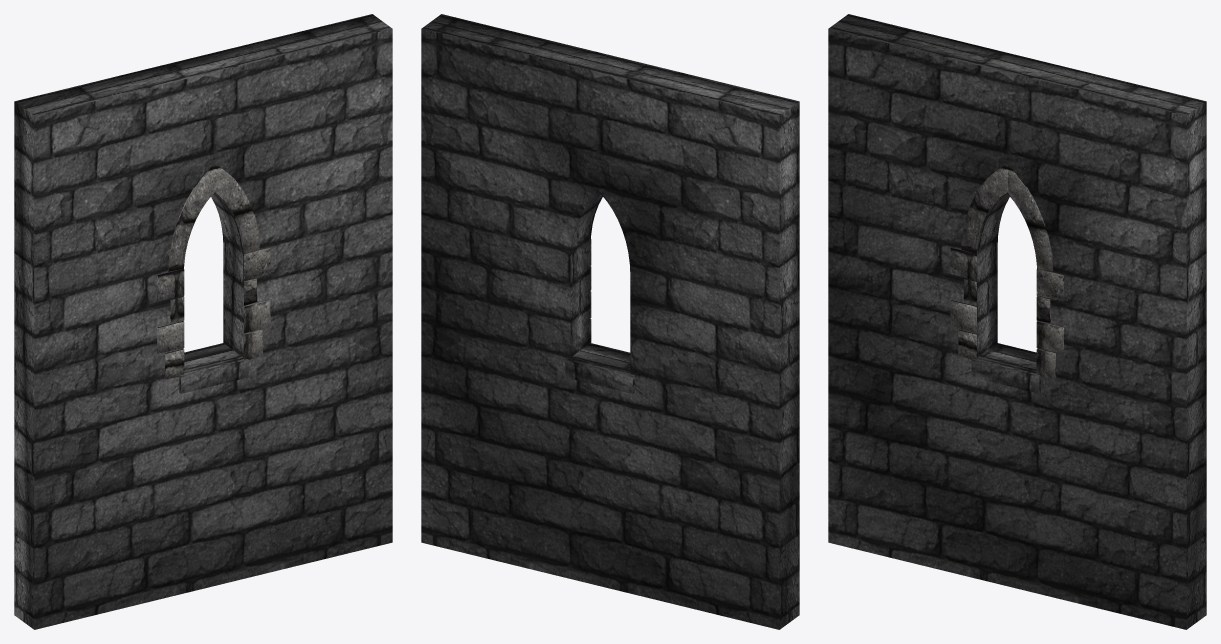
Rendered from stone window .glb.
The picture shows the model from 3 angles, left to right: view 1: azimuth 30°, elevation 25°; view 2: azimuth 150°, elevation 25°; view 3: azimuth 330°, elevation 25°; orthographic projection.
Parts seen in each view (by area): view 1: Wall, WIndow - Arch; view 2: Wall, WIndow - Arch; view 3: Wall, WIndow - Arch.
Part boxes in pixels (x1,y1,x2,y2): Wall, WIndow - Arch: (14, 14, 392, 629); Wall, WIndow - Arch: (421, 14, 799, 629); Wall, WIndow - Arch: (828, 14, 1206, 629).
Size of the model in its own units: 2 by 2.74 by 0.225.
2 materials, 2 textured.
